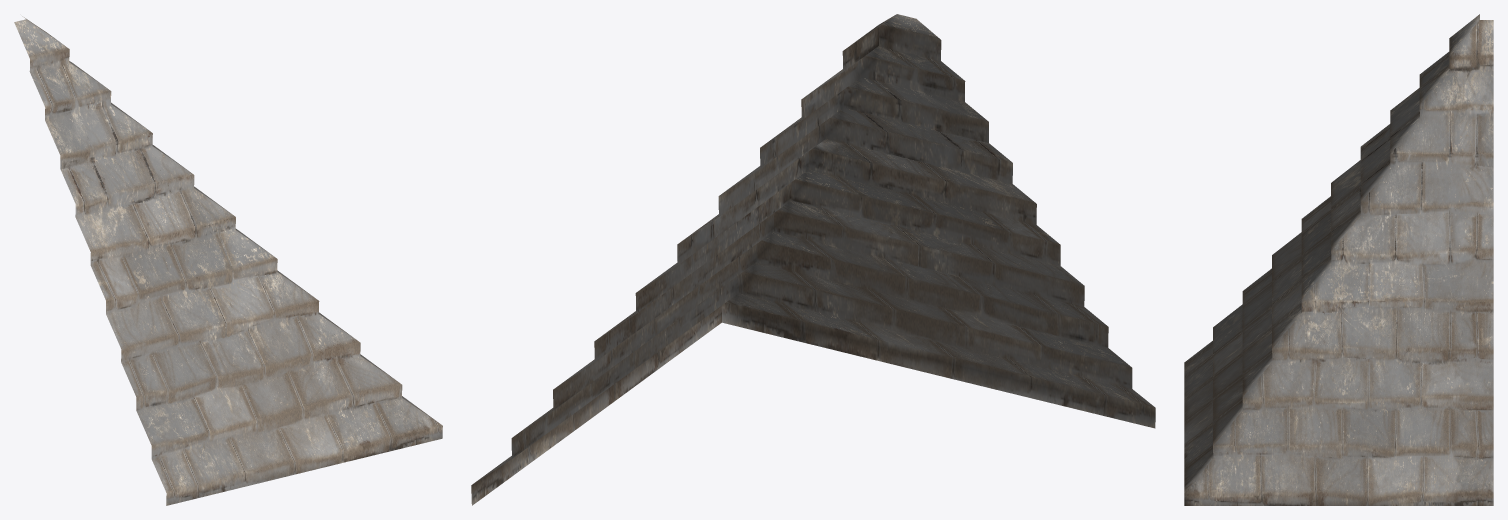
The model's file is SM_Roof01_5_LOD0.glb.
3 views of the same model, side by side, from view 1: azimuth 30°, elevation 25°; view 2: azimuth 150°, elevation 25°; view 3: azimuth 270°, elevation 25° (orthographic). The views are drawn at different scales.
Parts seen in each view (by area): view 1: SM_Roof01_5_LOD0; view 2: SM_Roof01_5_LOD0; view 3: SM_Roof01_5_LOD0.
Boxes of the visible parts, box(x1,y1,x2,y2) form: SM_Roof01_5_LOD0: box(14, 16, 442, 505); SM_Roof01_5_LOD0: box(471, 14, 1155, 505); SM_Roof01_5_LOD0: box(1184, 14, 1493, 505).
Size of the model in its own units: 2.1 by 2.7 by 2.1.
Materials: 1 (1 with a texture image).
